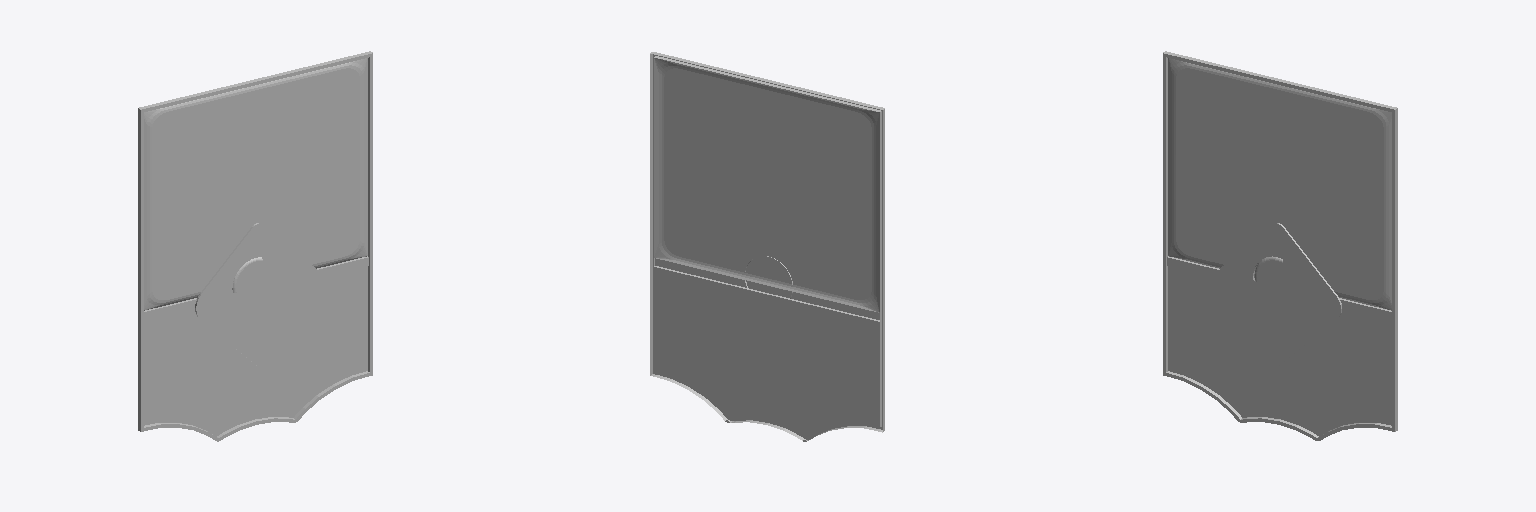
The model's file is SetA_WallSymbol_Style_02.obj.
3 renders of one model, left to right at view 1: azimuth 30°, elevation 25°; view 2: azimuth 150°, elevation 25°; view 3: azimuth 330°, elevation 25°, orthographic.
Parts seen in each view (by area): view 1: SetA_WallSymbol_Style_02; view 2: SetA_WallSymbol_Style_02; view 3: SetA_WallSymbol_Style_02.
Part boxes in pixels (left/top/right/bottom): SetA_WallSymbol_Style_02: left=138, top=51, right=372, bottom=441; SetA_WallSymbol_Style_02: left=650, top=52, right=884, bottom=441; SetA_WallSymbol_Style_02: left=1163, top=51, right=1397, bottom=440.
Size of the model in its own units: 0.2703 by 0.3896 by 0.0065.